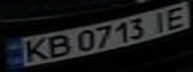0: (72, 28, 96, 53)
1: (112, 19, 133, 44)
3: (127, 15, 151, 40)
7: (93, 23, 115, 48)
B: (39, 33, 75, 60)
E: (160, 3, 193, 30)
I: (145, 8, 175, 34)
K: (15, 36, 54, 65)
